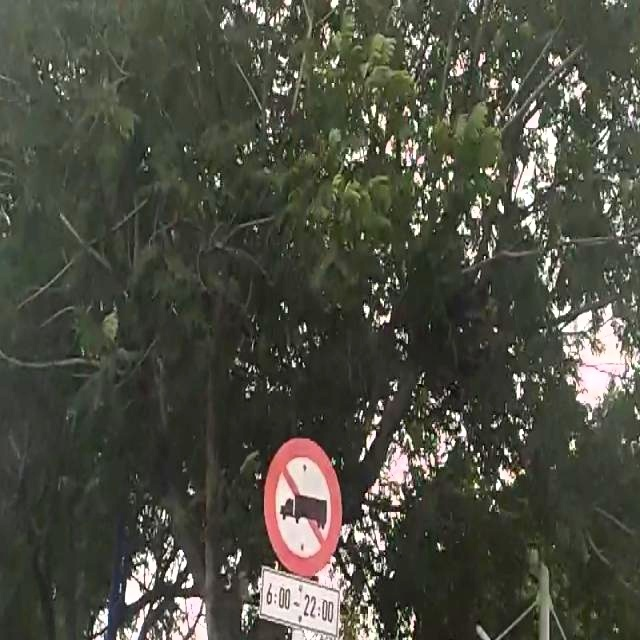B.8a: (255, 440, 341, 625)
